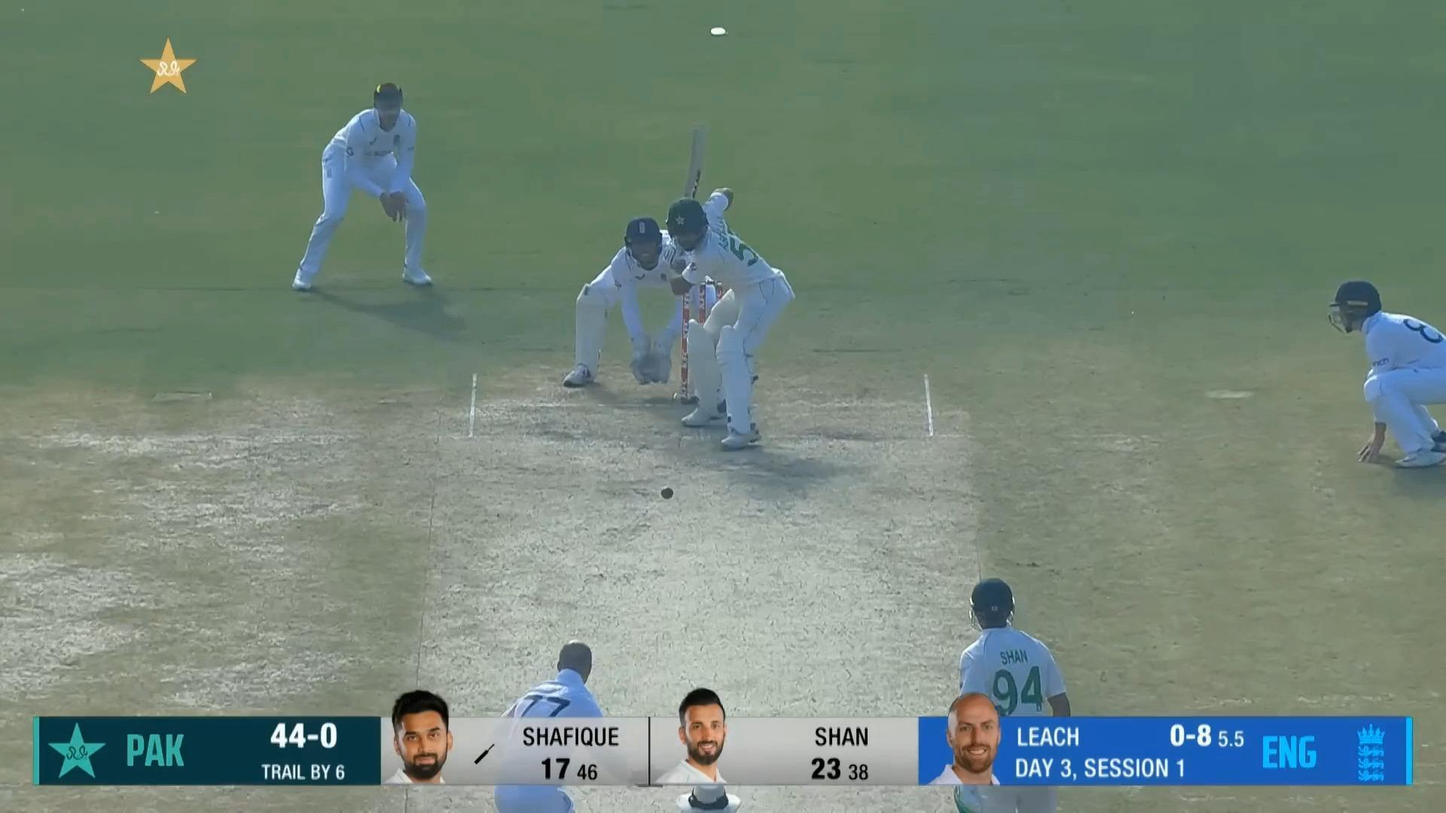BM 1: (659, 123, 796, 451)
BO: (492, 640, 606, 813)
